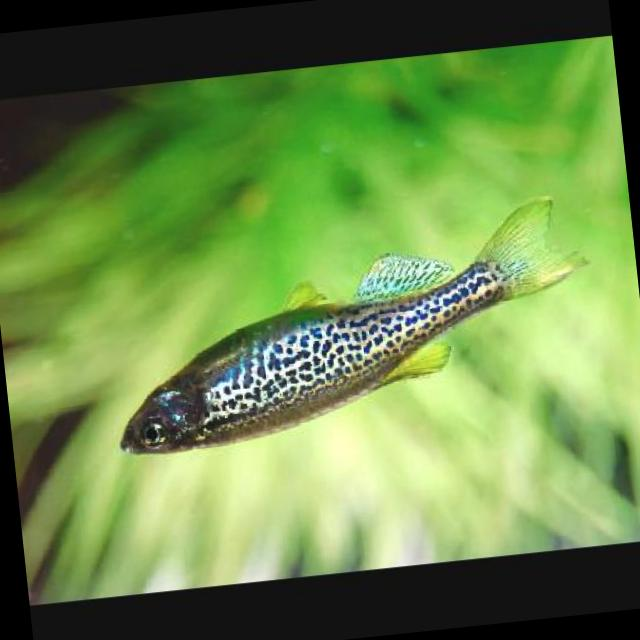ZebraFish: (96, 193, 604, 459)
